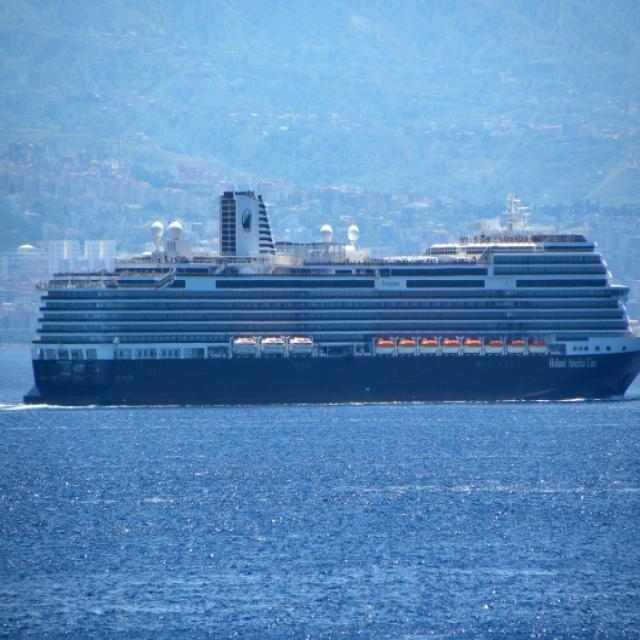cruises: (20, 189, 640, 413)
